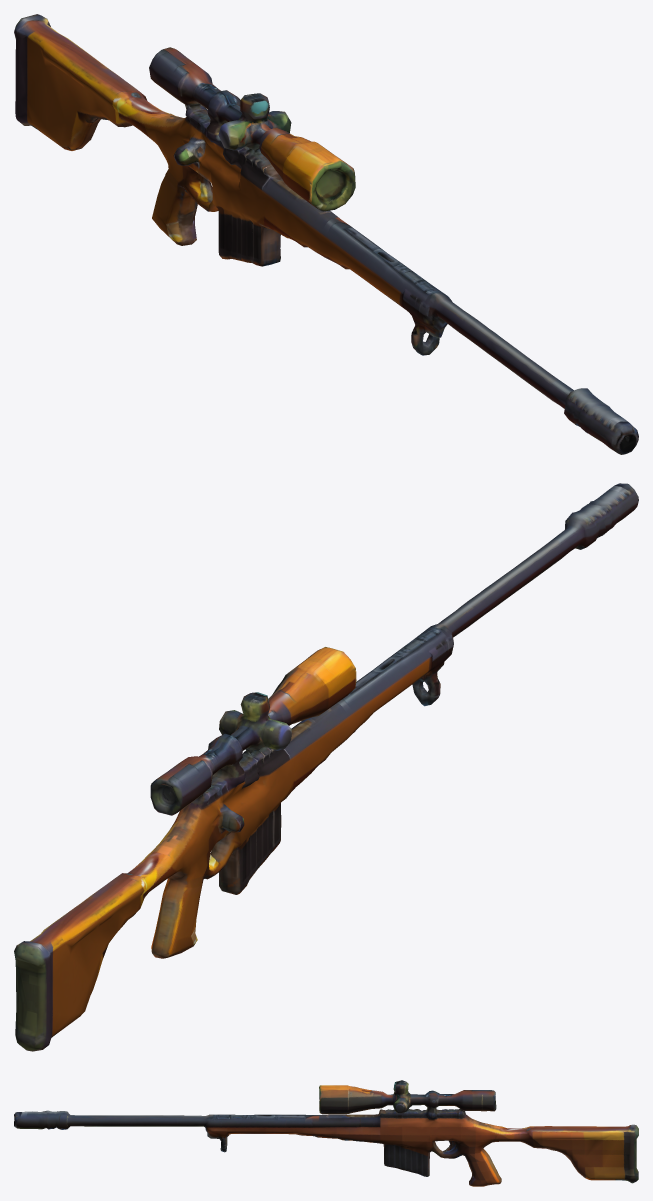
File: sniper.glb
3 views of the same model, one above another, from view 1: azimuth 30°, elevation 25°; view 2: azimuth 150°, elevation 25°; view 3: azimuth 270°, elevation 25° (orthographic). The views are drawn at different scales.
Bounding box in the file's own units: 0.1245 × 0.3615 × 2.01.
Materials: 1 (1 with a texture image).
